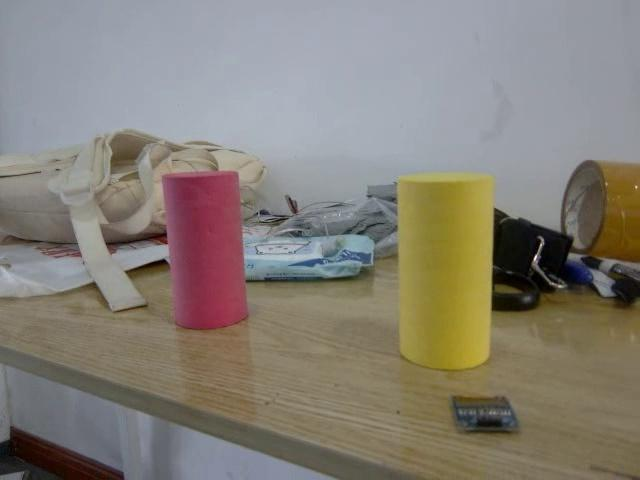red_cylinder: (162, 170, 248, 330)
yellow_cylinder: (397, 173, 491, 370)
